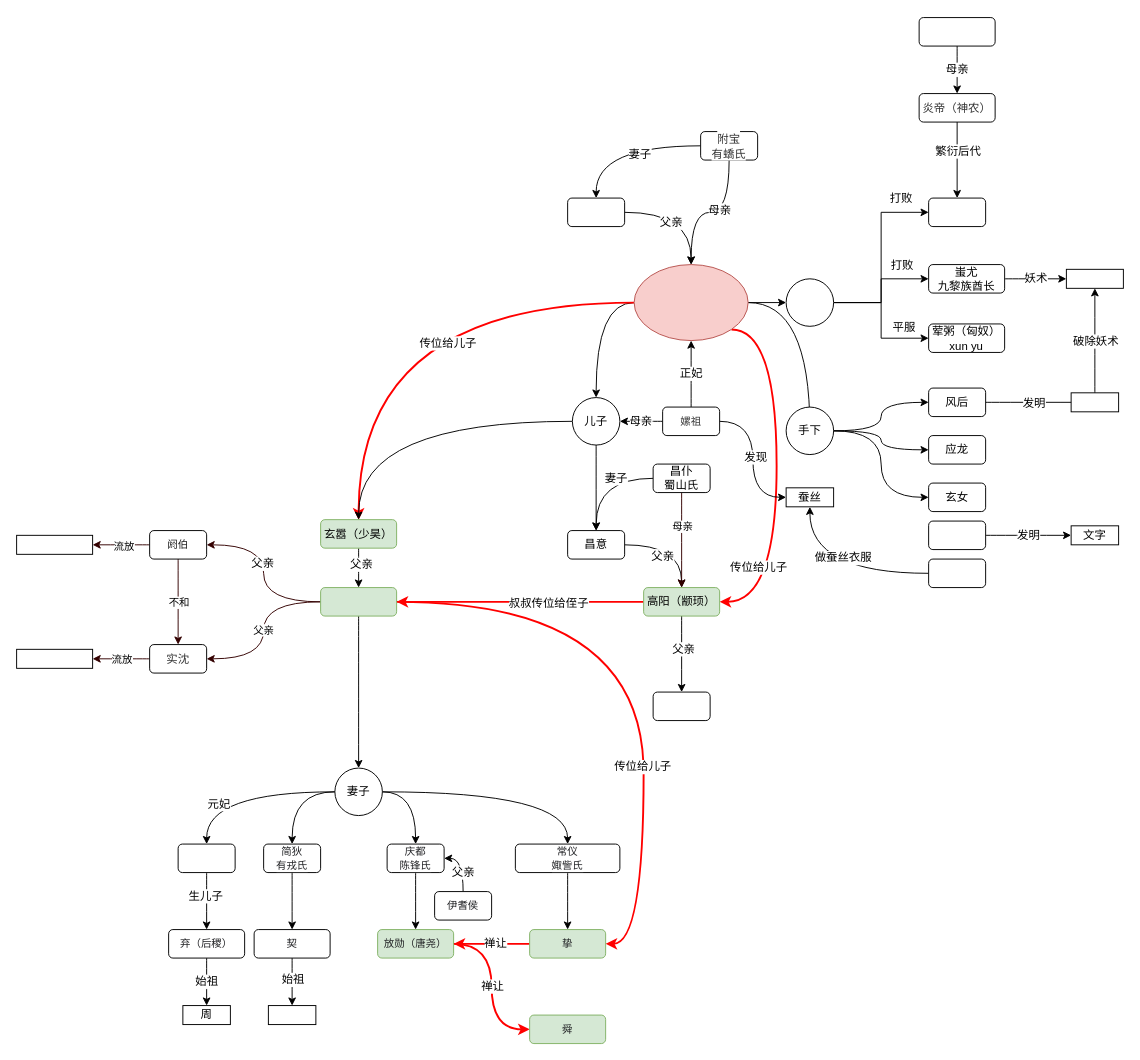
This 1140x1060 diagram has some shape labels left out. Each missing label, with the centre of its shape:
"仓颉" goes at [957,535].
"伯余" goes at [957,573].
"参星（大夏）" goes at [54,658].
"商星（商丘）" goes at [54,544].
"女登（安登） 有蟜氏" goes at [956,31].
"姜嫄 有邰氏" goes at [206,858].
"对手" goes at [809,302].
"少典国君" goes at [596,212].
"指南车" goes at [1094,402].
"殷商" goes at [291,1015].
"漫天大雾" goes at [1094,278].
"神农氏" goes at [957,212].
"穷蝉" goes at [681,706].
"高辛（帝喾）" goes at [358,601].
"黄帝 公孙轩辕/姬轩辕" goes at [690,302].
